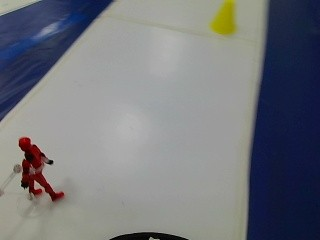cone: (203, 0, 240, 38)
pedestrian: (16, 130, 67, 207)
